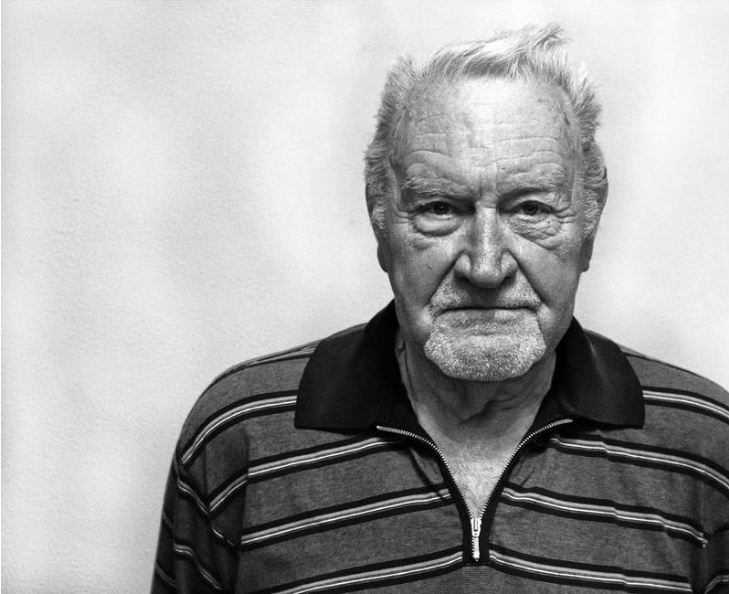face: (392, 86, 572, 381)
